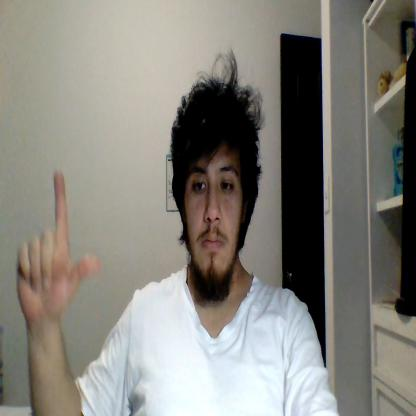L: (17, 169, 98, 318)
